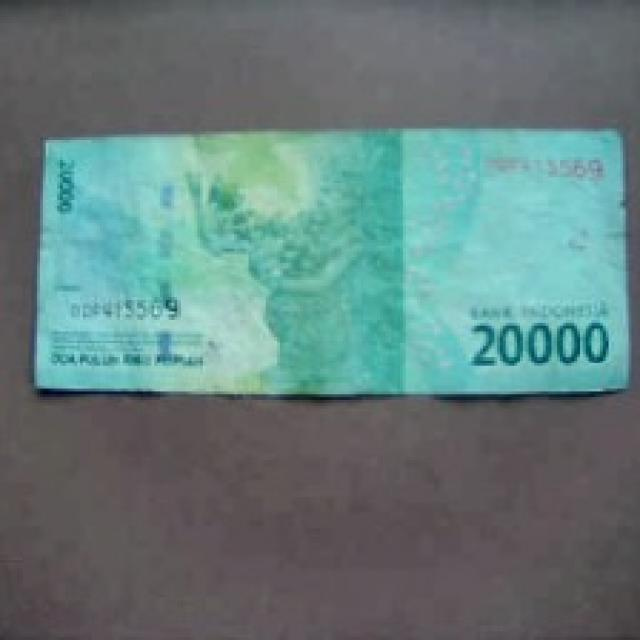dua puluh ribu rupiah: (33, 78, 640, 464)
